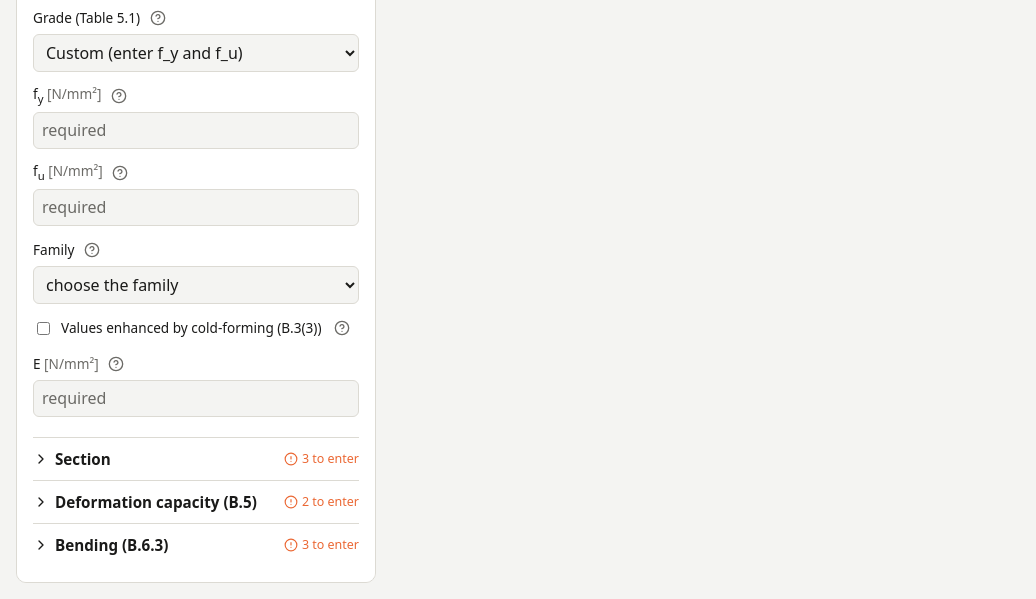
Test case: the Section group › angle: its dimension fields, each with a ? button
(page scrolled)
Click the button "Section 3 to enter" at (83,459), box [33,438,359,480]
(page scrolled)
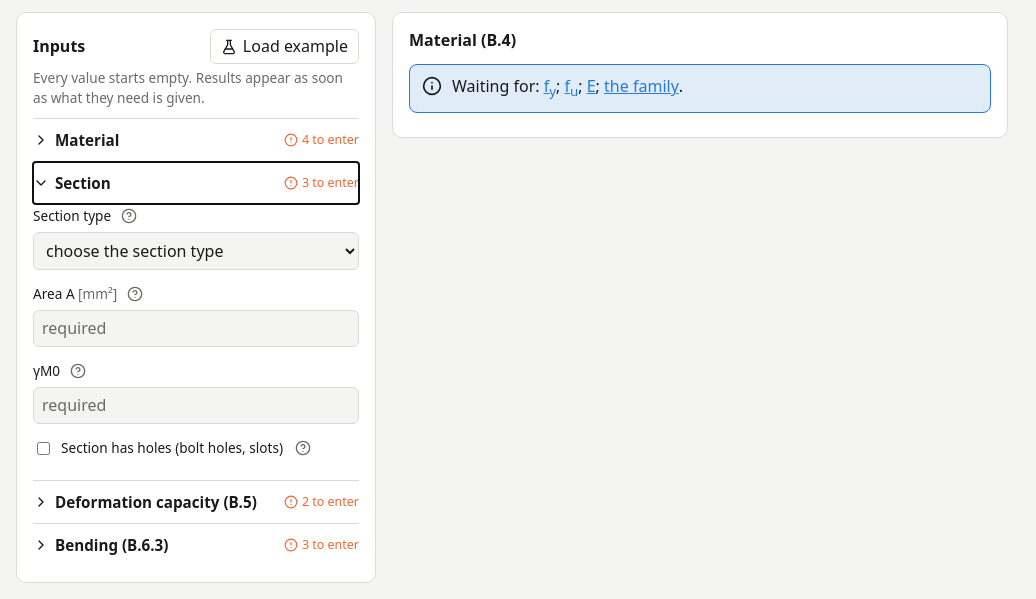
Select "Angle" in the dropdown labelled "Section type" at (196,251), box [33,232,359,270]
(page scrolled)
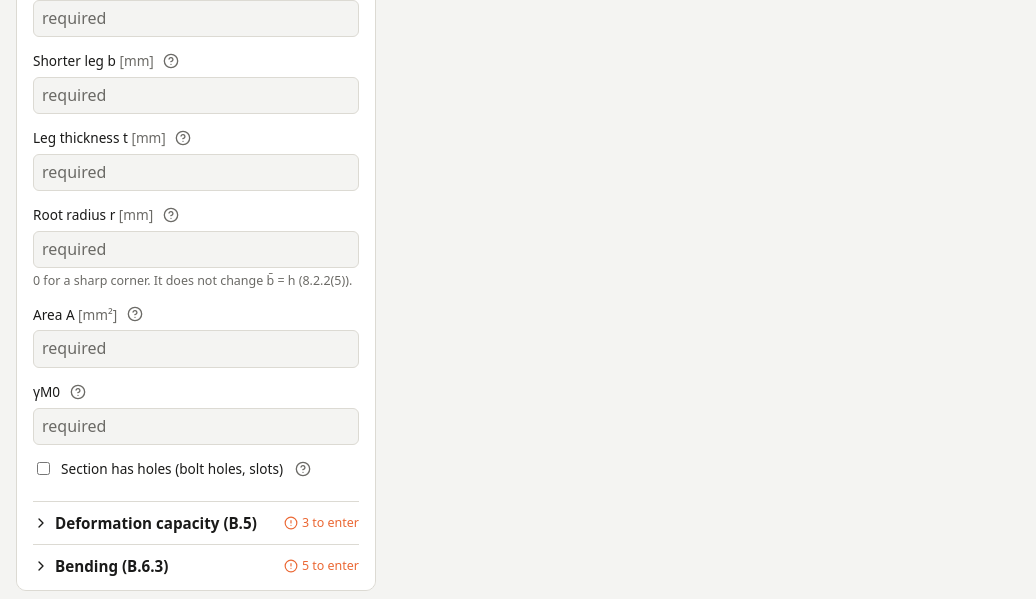
expect the button named "What is " is shown: met, box [159,203,183,227]
expect the number field labelled "Root radius r [mm]" is not empty: met, box [33,231,359,268]
